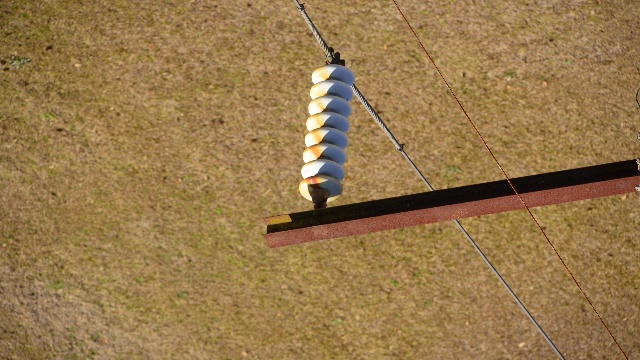insulator_unspecified: (299, 65, 356, 203)
